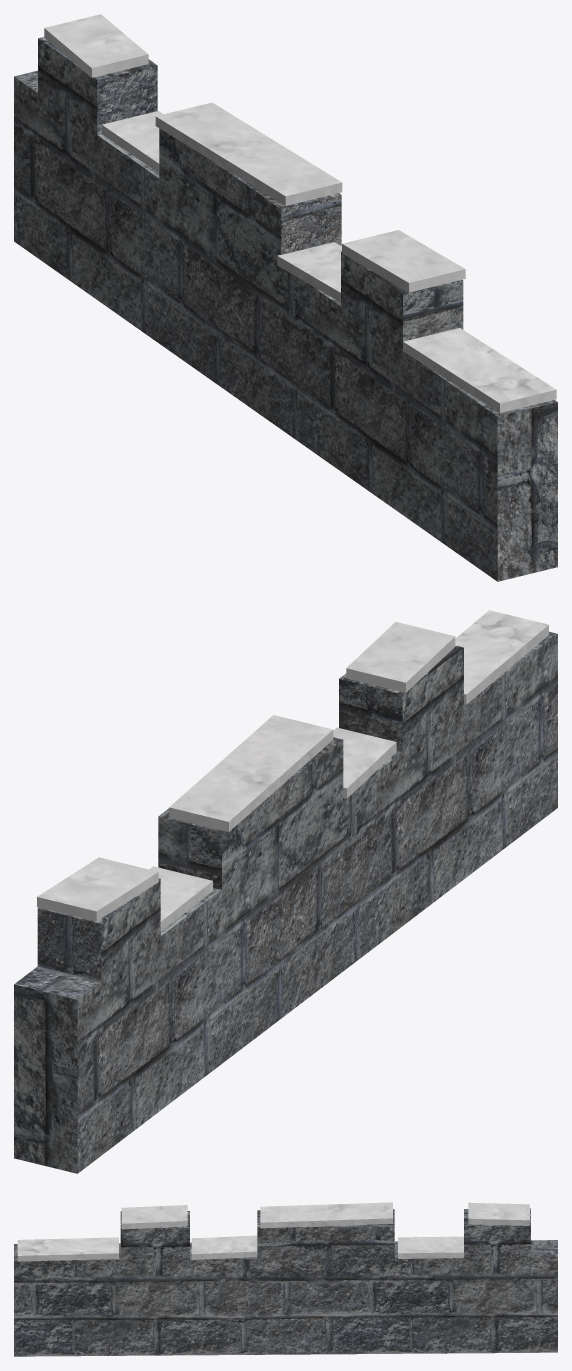
Rendered from StoneWallASnow_LOD.fbx.
3 views of the same model, one above another, from view 1: azimuth 30°, elevation 25°; view 2: azimuth 150°, elevation 25°; view 3: azimuth 270°, elevation 25° (orthographic). The views are drawn at different scales.
Visible parts, largest first — view 1: StoneWallASnow_LOD; view 2: StoneWallASnow_LOD; view 3: StoneWallASnow_LOD.
Boxes of the visible parts, x1,y1,x2,y2 form: StoneWallASnow_LOD: (14,14,557,581); StoneWallASnow_LOD: (14,610,557,1173); StoneWallASnow_LOD: (14,1202,557,1356).
Bounding box in the file's own units: 55.69 × 159 × 588.
